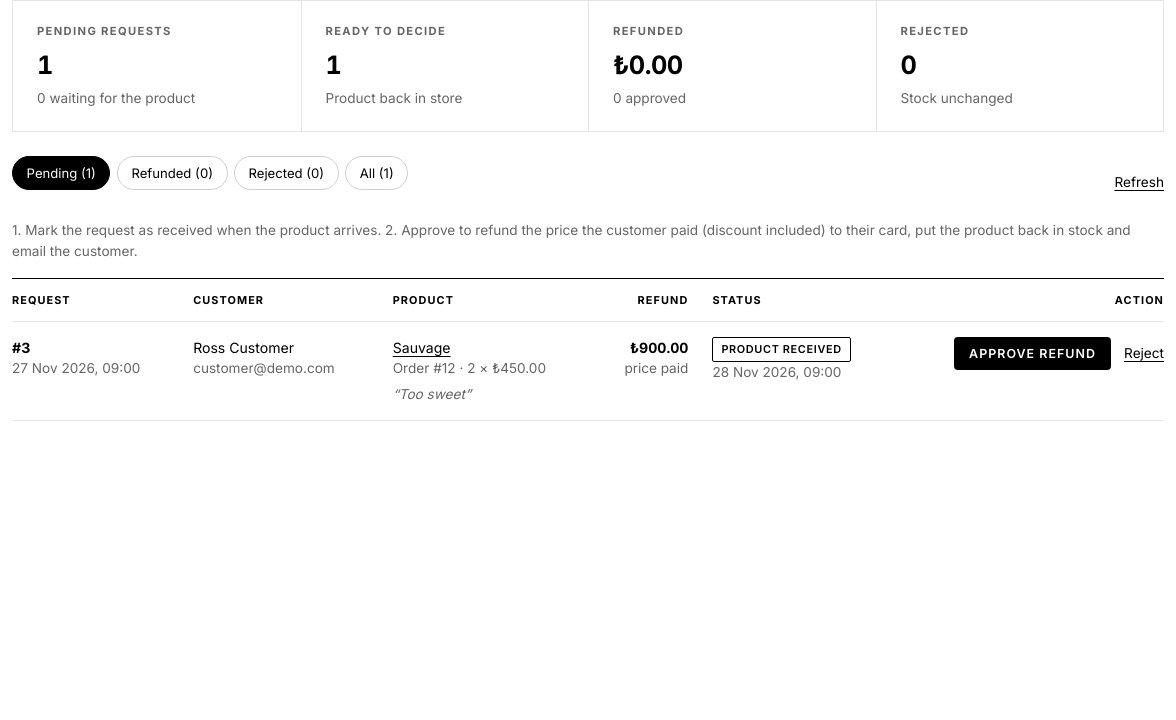
it: sales manager refund tab › keeps the request pending and shows the bank error
The width and height of the screenshot is (1176, 720).
Step 1. Click the button "Approve refund" → (1032, 353), box [954,337,1111,370]
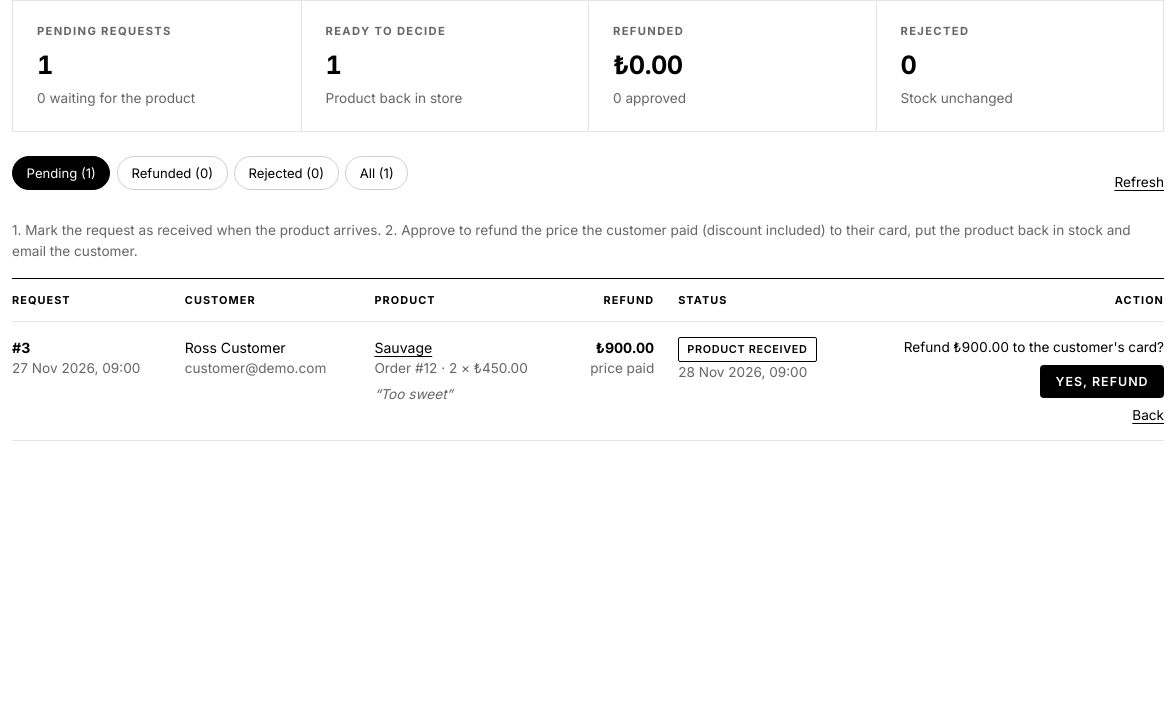
Step 2. Click the button "Yes, refund" → (1102, 381), box [1040,365,1164,398]
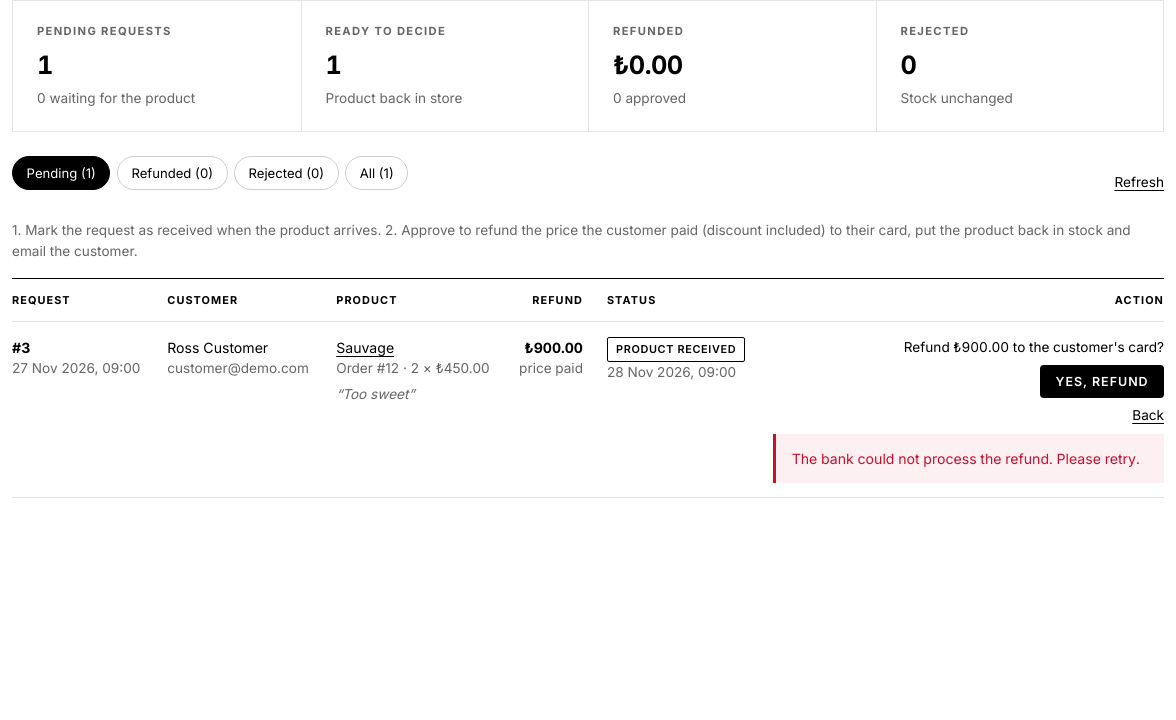
expect the text "Product received" is shown: met, box [607,337,745,362]
expect the text "The bank could not process the refund. Please retry." is shown: met, box [773,434,1164,483]
